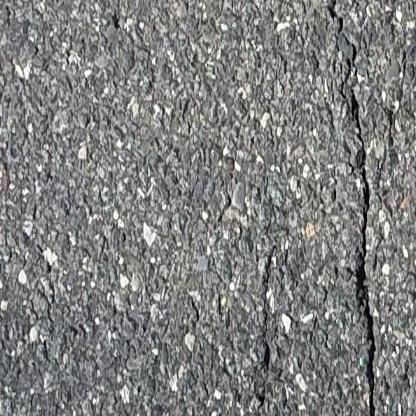Cracks: (349, 90, 382, 416), (251, 244, 279, 416), (326, 0, 362, 95)
